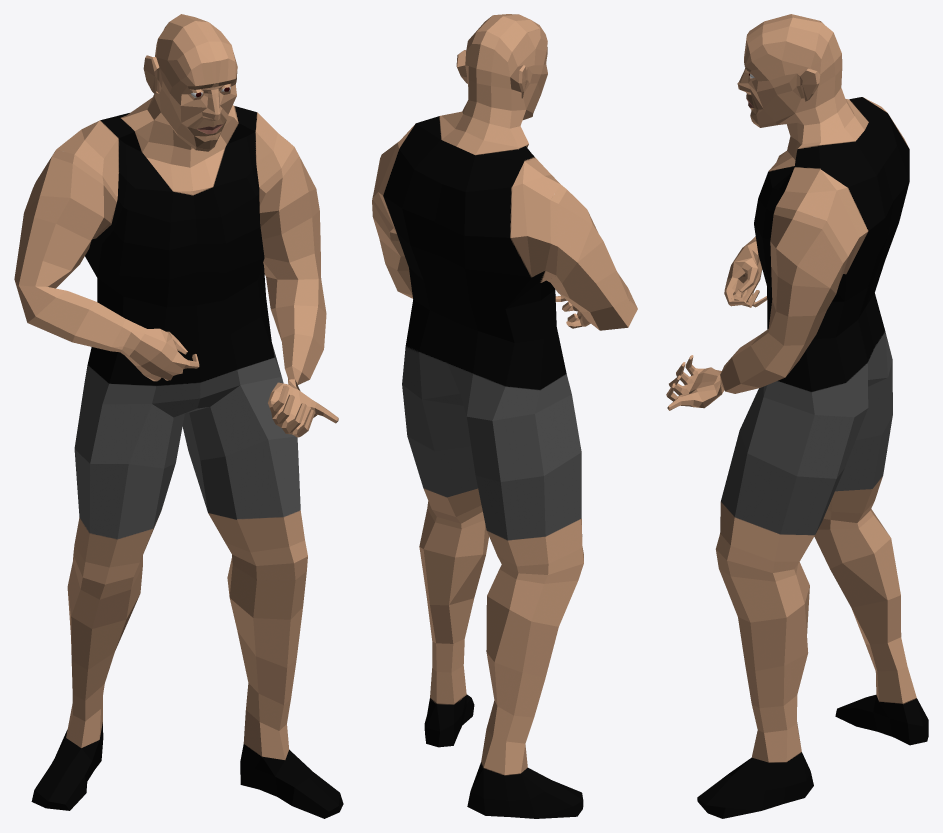
File: PlayerIdle(75).obj
3 views of the same model, side by side, from view 1: azimuth 30°, elevation 25°; view 2: azimuth 150°, elevation 25°; view 3: azimuth 270°, elevation 25° (orthographic). The views are drawn at different scales.
Parts seen in each view (by area): view 1: Plane002; view 2: Plane002; view 3: Plane002.
Part boxes in pixels (x1,y1,x2,y2): Plane002: (14,14,343,818); Plane002: (372,14,637,818); Plane002: (666,14,928,818).
Bounding box in the file's own units: 669 × 1799 × 571.
